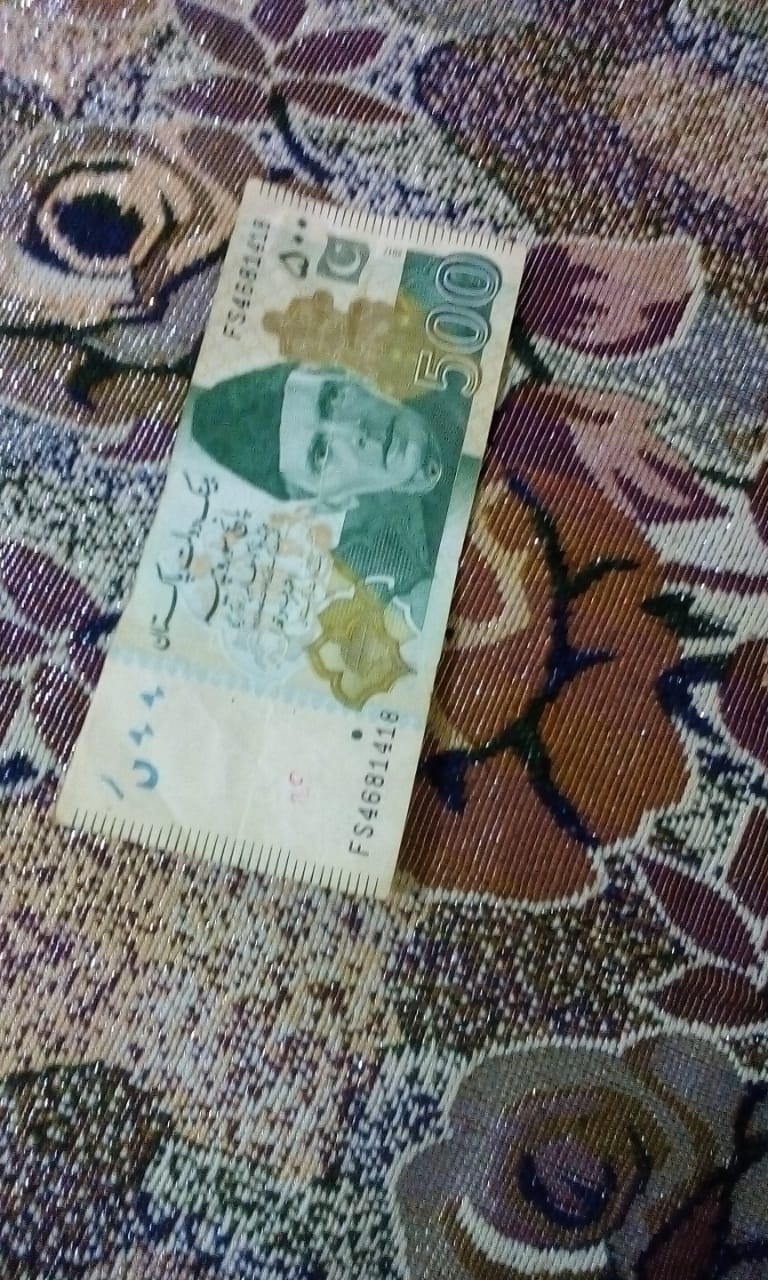500 rupee: (44, 169, 537, 942)
